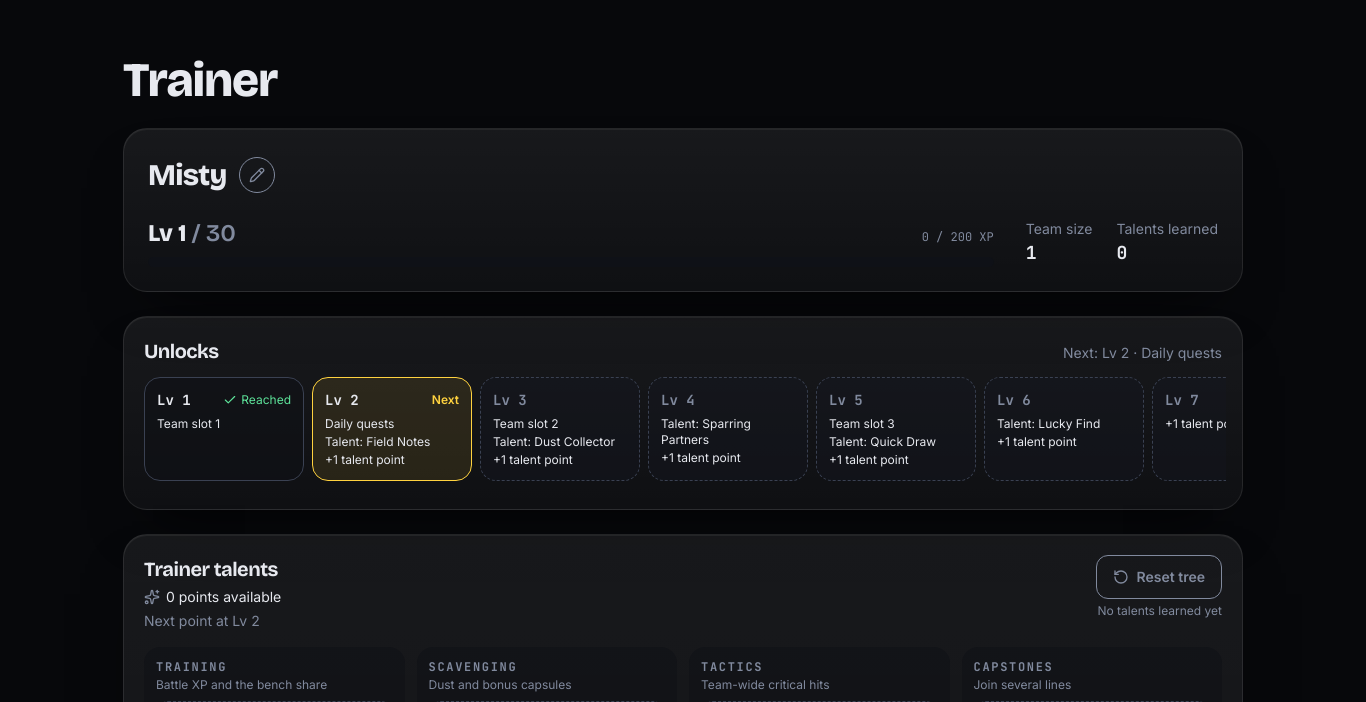
Test: TrainerPage › rename › Enter saves the trimmed name and gives focus back to the name button
Click the button with aria-label "Rename Misty": (187, 175) x1=148 y1=153 x2=1218 y2=197
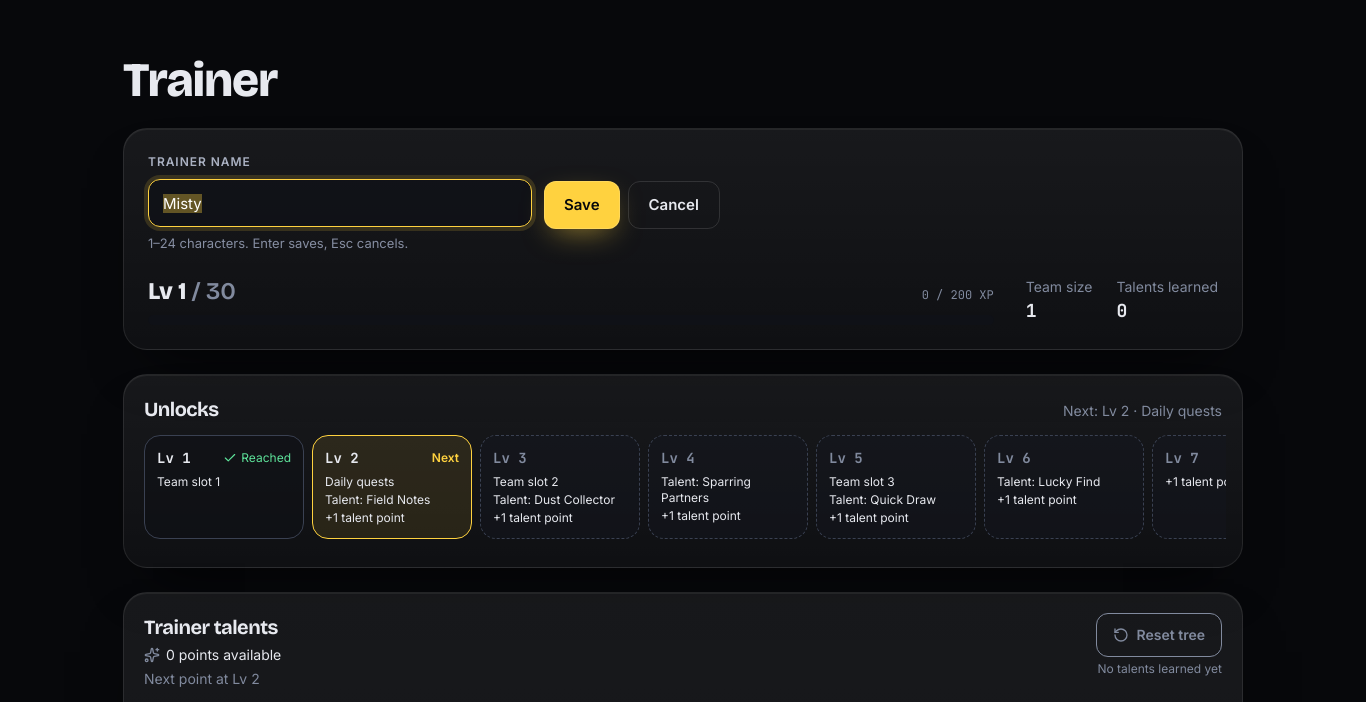
Check: the field labelled "Trainer name" holds "Misty"
Replace the text in the field labelled "Trainer name" with "  Brock  ": (340, 203) x1=163 y1=180 x2=517 y2=226
Then press Enter
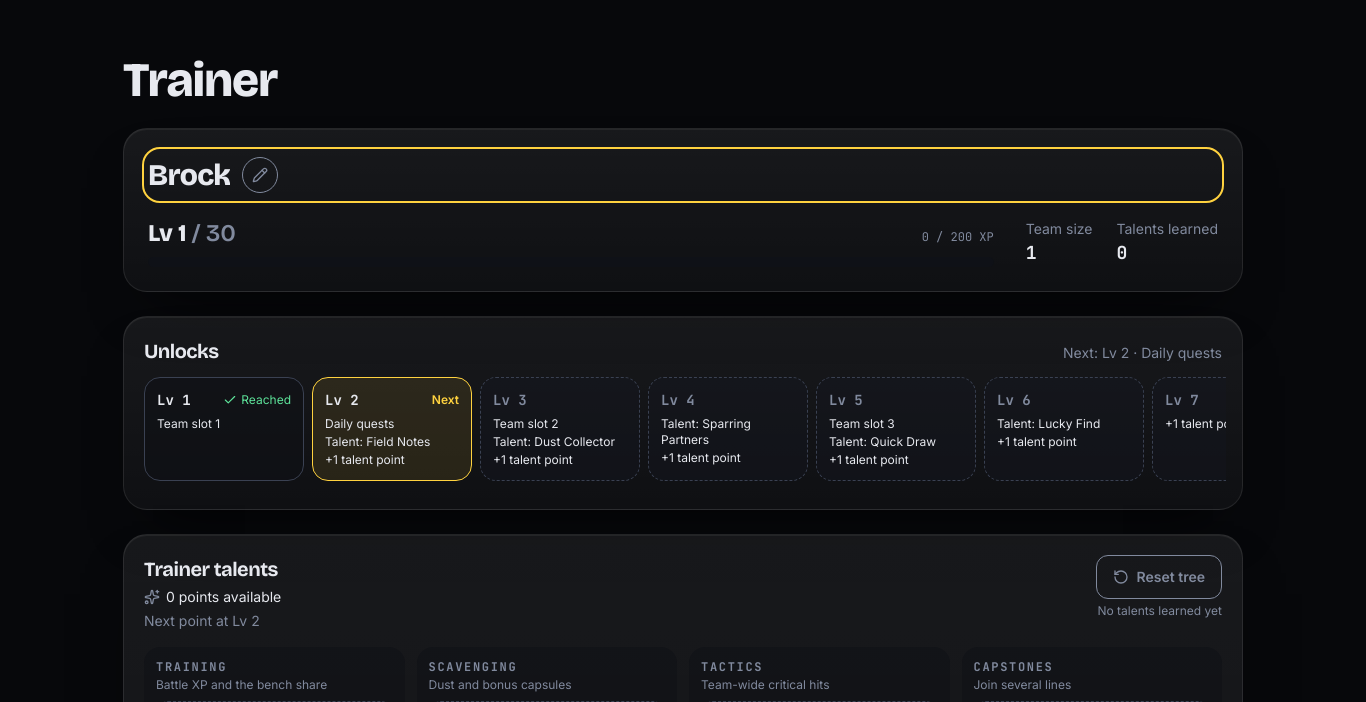
Check: the text "Brock" is shown, box x1=148 y1=157 x2=230 y2=193
